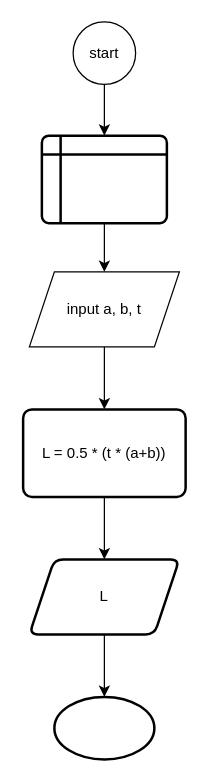
Image size: 208x783. Some labels were removed from this diagram. The shapes that lost their labels are listed below. From the top down, each one's box as (x1, y1, x2, y2) in pixels, then its label:
(40, 134, 168, 224): a, b, t integer L integer
(52, 695, 155, 760): end
